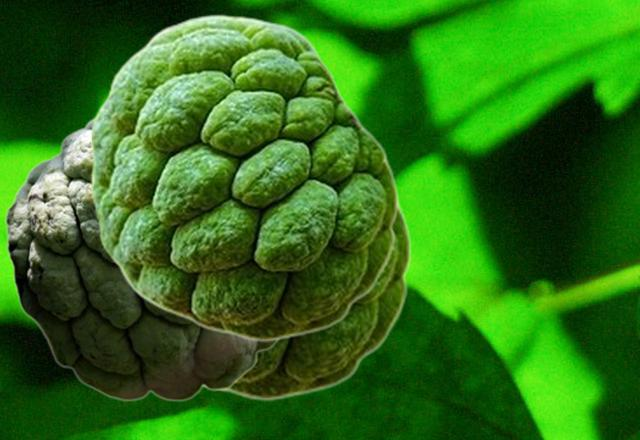atis: (90, 13, 398, 341), (4, 117, 278, 401), (203, 190, 411, 400)
